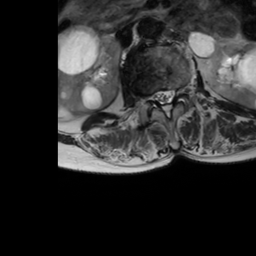CCS_normal: (162, 83, 169, 123)
LFS_stenosis: (175, 80, 183, 101)
LLS_normal: (168, 83, 175, 105)
RFS_stenosis: (146, 86, 154, 106)
RLS_normal: (154, 84, 162, 107)
